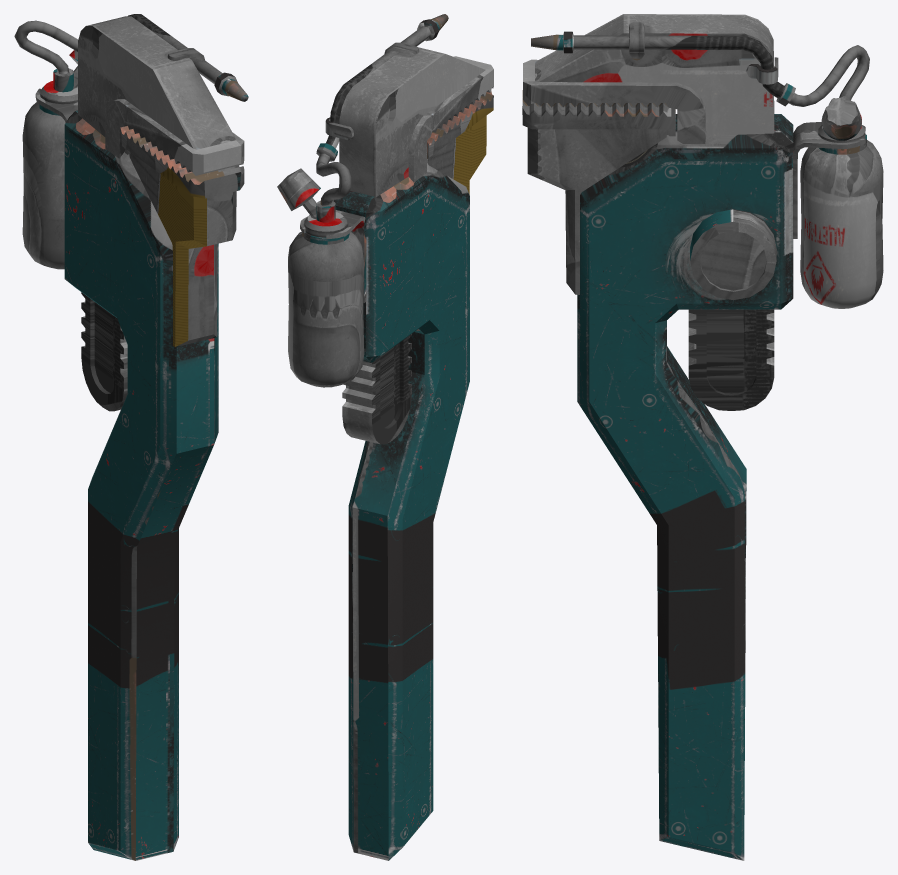
Rendered from Wrench_World.fbx.
The picture shows the model from 3 angles, left to right: view 1: azimuth 30°, elevation 25°; view 2: azimuth 150°, elevation 25°; view 3: azimuth 270°, elevation 25°; orthographic projection. The views are drawn at different scales.
Visible parts, largest first — view 1: Wrench; view 2: Wrench; view 3: Wrench.
Boxes of the visible parts, x1=… form: Wrench: x1=14, y1=14, x2=248, y2=860; Wrench: x1=277, y1=14, x2=493, y2=860; Wrench: x1=522, y1=14, x2=883, y2=860.
Size of the model in its own units: 0.0455 by 0.385 by 0.1513.
Materials: 1 (1 with a texture image).
